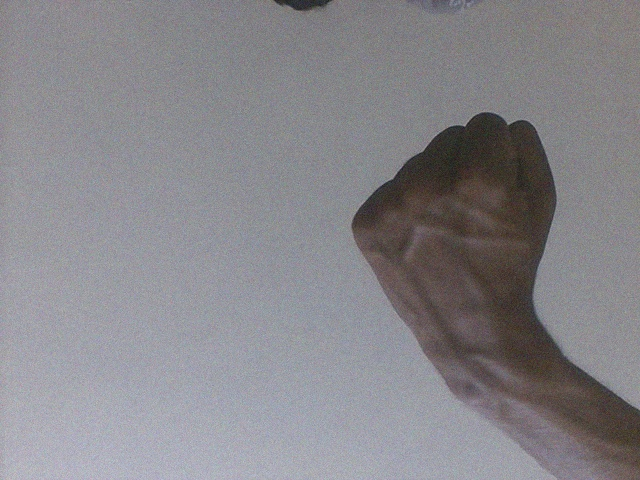hand: (347, 110, 559, 371)
